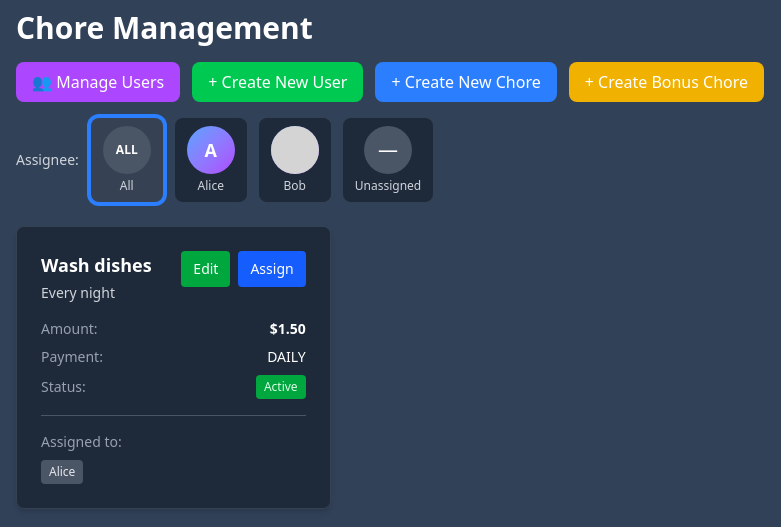
Test case: assignee filter › renders an empty state when the filter matches nothing
The width and height of the screenshot is (781, 527).
expect the heading "Wash dishes" is shown: met, box [41,251,165,279]
Click the button "Bob": (295, 160) [259,118,331,202]
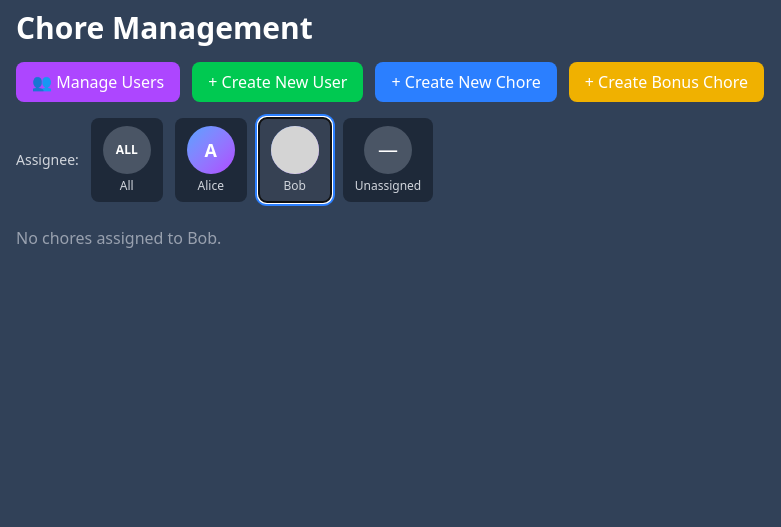
expect the text "No chores assigned to Bob." is shown: met, box [16,227,221,249]
